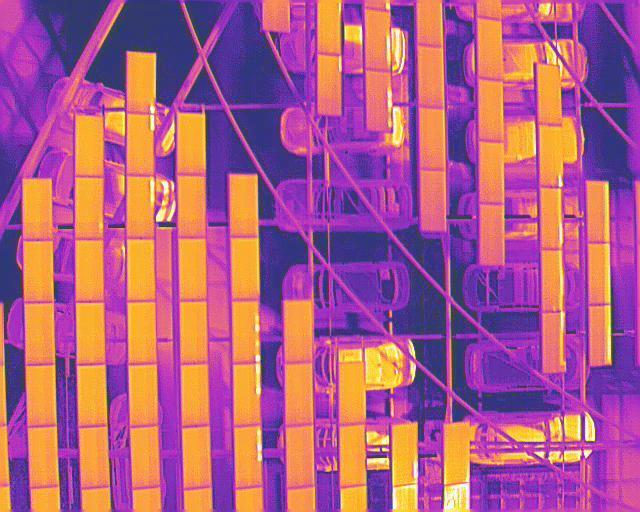Cell: (126, 52, 157, 114)
No-Anomaly: (22, 177, 53, 242), (24, 240, 53, 304), (127, 239, 156, 303), (26, 302, 55, 366), (75, 178, 104, 241), (284, 300, 313, 363), (180, 301, 209, 364), (26, 366, 55, 429), (76, 239, 104, 304), (287, 423, 314, 490), (176, 114, 205, 176), (133, 425, 160, 491), (179, 238, 207, 301), (29, 427, 57, 490), (81, 426, 109, 489), (129, 301, 156, 366), (419, 107, 446, 172), (286, 362, 313, 427), (339, 425, 366, 490), (184, 425, 211, 490), (78, 363, 105, 428), (418, 45, 445, 109), (231, 175, 258, 238), (77, 115, 104, 178), (232, 238, 259, 301), (77, 303, 104, 366), (338, 362, 365, 425), (182, 364, 209, 427), (130, 364, 157, 427), (444, 421, 469, 487), (421, 168, 446, 232), (179, 175, 204, 238), (480, 204, 505, 267), (479, 141, 504, 204), (478, 79, 503, 142), (477, 18, 502, 81), (587, 180, 610, 244), (588, 305, 612, 366), (541, 250, 564, 311), (588, 245, 611, 305), (538, 65, 560, 126), (541, 189, 563, 249), (542, 313, 564, 372), (318, 0, 342, 54)
Unclassified: (127, 113, 158, 175), (126, 176, 155, 238), (234, 362, 261, 427), (233, 302, 260, 364), (364, 9, 391, 71), (235, 426, 261, 490), (392, 422, 418, 485), (366, 70, 392, 131), (319, 54, 344, 117), (540, 126, 563, 189)
